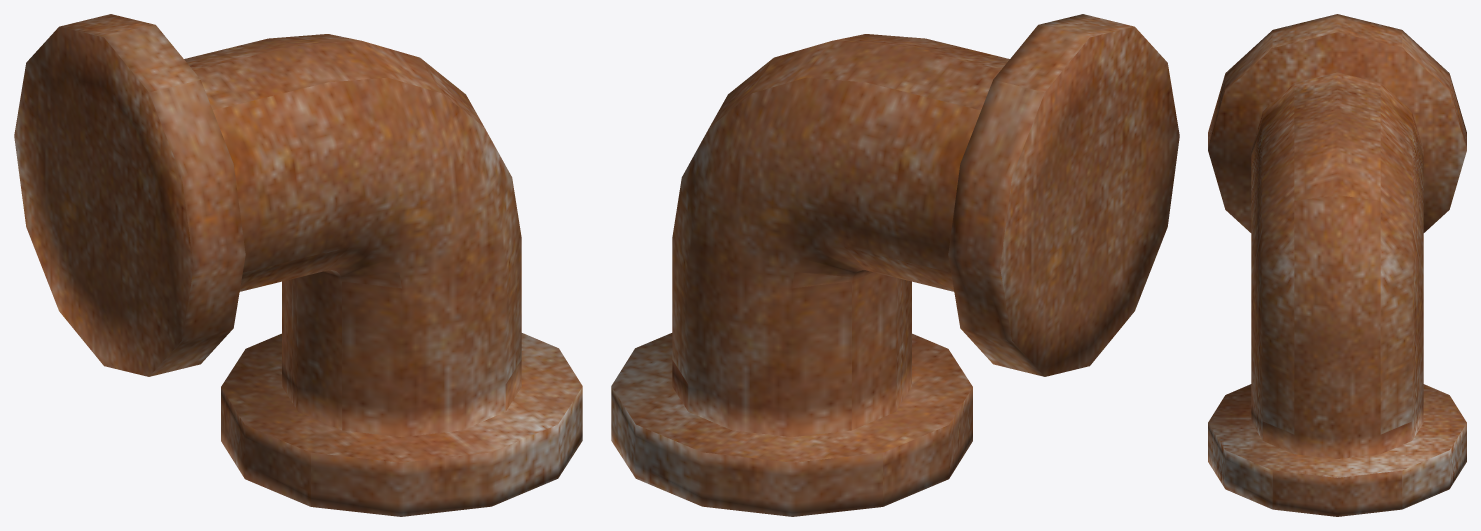
The model's file is pipe.corner.short.fbx.
3 renders of one model, left to right at view 1: azimuth 30°, elevation 25°; view 2: azimuth 150°, elevation 25°; view 3: azimuth 270°, elevation 25°, orthographic. The views are drawn at different scales.
Parts seen in each view (by area): view 1: Cylinder; view 2: Cylinder; view 3: Cylinder.
Boxes of the visible parts, x1,y1,x2,y2 form: Cylinder: [14, 14, 582, 516]; Cylinder: [611, 14, 1179, 516]; Cylinder: [1208, 14, 1466, 516].
Size of the model in its own units: 87.73 by 87.73 by 60.03.
1 material, 1 textured.
